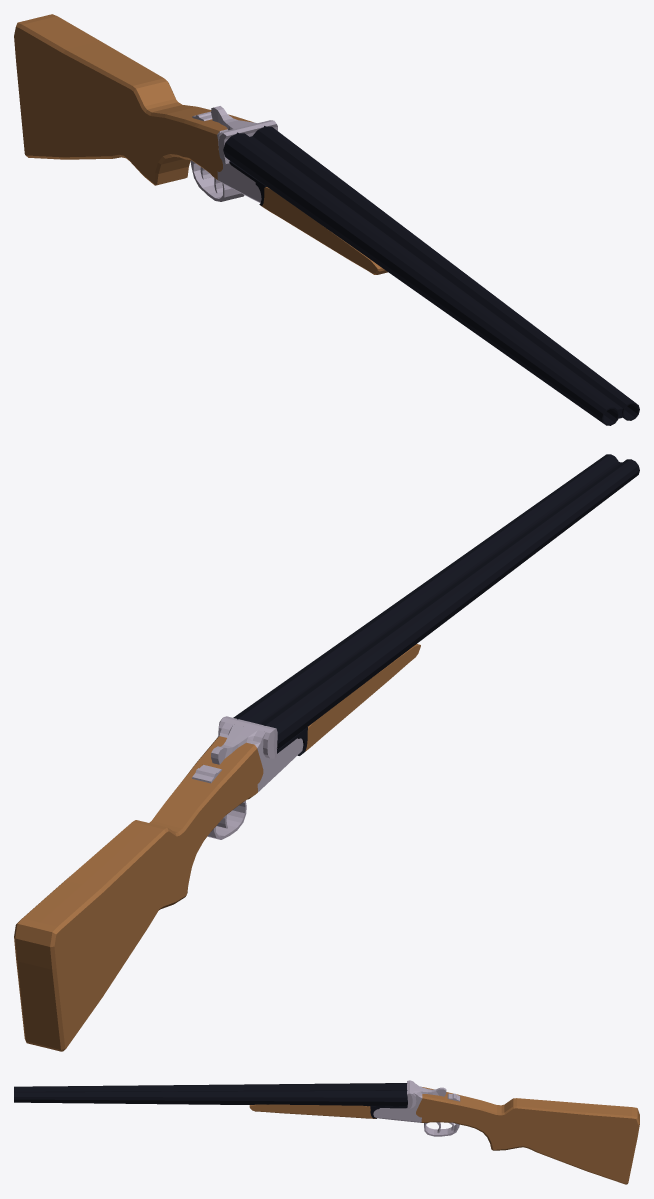
File: double-barrel-shotgun.fbx
3 views of the same model, one above another, from view 1: azimuth 30°, elevation 25°; view 2: azimuth 150°, elevation 25°; view 3: azimuth 270°, elevation 25° (orthographic). The views are drawn at different scales.
Visible parts, largest first — view 1: rifle butt, barrels; view 2: rifle butt, barrels; view 3: rifle butt, barrels.
Boxes of the visible parts, x1,y1,x2,y2 form: rifle butt: (14,14,277,202); barrels: (223,126,639,425); rifle butt: (14,716,303,1051); barrels: (233,454,639,755); rifle butt: (373,1080,639,1184); barrels: (14,1083,407,1118).
Bounding box in the file's own units: 6 × 18.17 × 111.
1 material, 1 textured.
